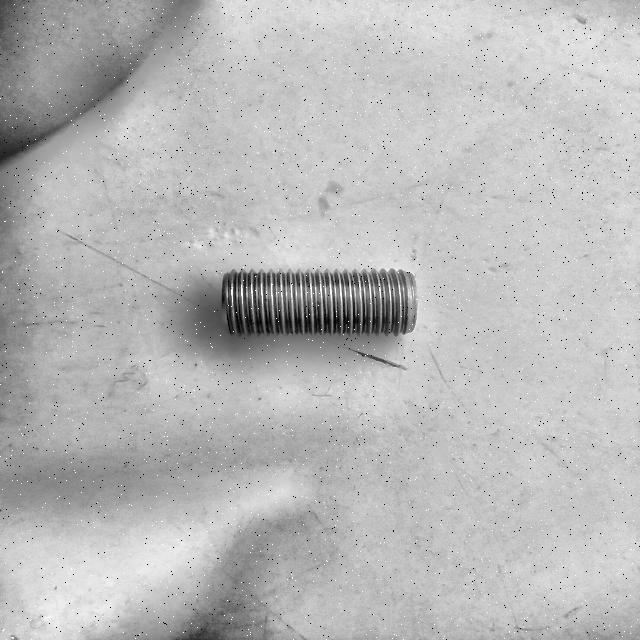Normal: (218, 267, 419, 340)
